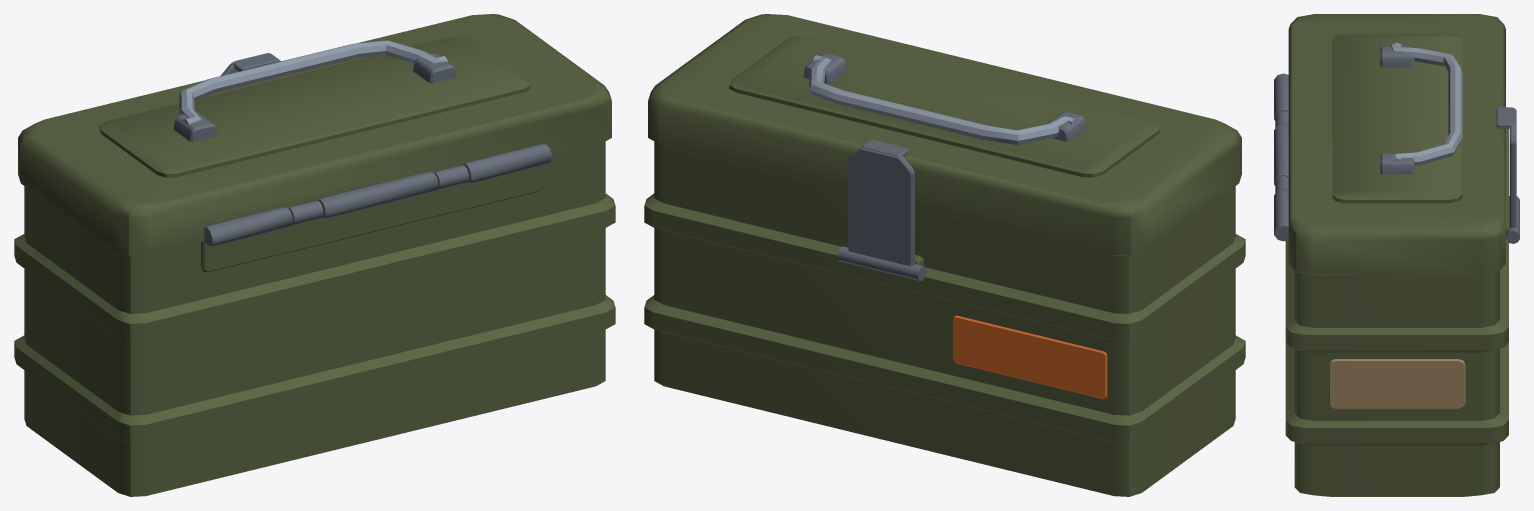
Rendered from AmmoBox.fbx.
The picture shows the model from 3 angles, left to right: view 1: azimuth 30°, elevation 25°; view 2: azimuth 150°, elevation 25°; view 3: azimuth 270°, elevation 25°; orthographic projection. The views are drawn at different scales.
Visible parts, largest first — view 1: AmmoBox_Body, AmmoBox_Lid, AmmoBox_Hinge, AmmoBox_Handle, AmmoBox_HandleBrackets; view 2: AmmoBox_Body, AmmoBox_Lid, AmmoBox_Latch, AmmoBox_Stripe, AmmoBox_Handle, AmmoBox_HandleBrackets; view 3: AmmoBox_Lid, AmmoBox_Body, AmmoBox_Label, AmmoBox_Handle, AmmoBox_Hinge, AmmoBox_Latch, AmmoBox_HandleBrackets.
Boxes of the visible parts, x1=… form: AmmoBox_Body: x1=14, y1=141, x2=615, y2=496; AmmoBox_Lid: x1=18, y1=14, x2=611, y2=256; AmmoBox_Hinge: x1=204, y1=144, x2=551, y2=246; AmmoBox_Handle: x1=179, y1=40, x2=447, y2=125; AmmoBox_HandleBrackets: x1=173, y1=53, x2=456, y2=141; AmmoBox_Body: x1=644, y1=141, x2=1245, y2=496; AmmoBox_Lid: x1=648, y1=14, x2=1241, y2=256; AmmoBox_Latch: x1=837, y1=140, x2=925, y2=280; AmmoBox_Stripe: x1=953, y1=315, x2=1107, y2=399; AmmoBox_Handle: x1=809, y1=55, x2=1077, y2=144; AmmoBox_HandleBrackets: x1=803, y1=53, x2=1086, y2=141; AmmoBox_Lid: x1=1288, y1=14, x2=1505, y2=275; AmmoBox_Body: x1=1285, y1=128, x2=1509, y2=496; AmmoBox_Label: x1=1329, y1=359, x2=1465, y2=409; AmmoBox_Handle: x1=1390, y1=42, x2=1462, y2=165; AmmoBox_Hinge: x1=1274, y1=73, x2=1288, y2=241; AmmoBox_Latch: x1=1496, y1=107, x2=1519, y2=243; AmmoBox_HandleBrackets: x1=1380, y1=46, x2=1414, y2=174.
Bounding box in the file's own units: 30.7 × 19.03 × 14.37.
